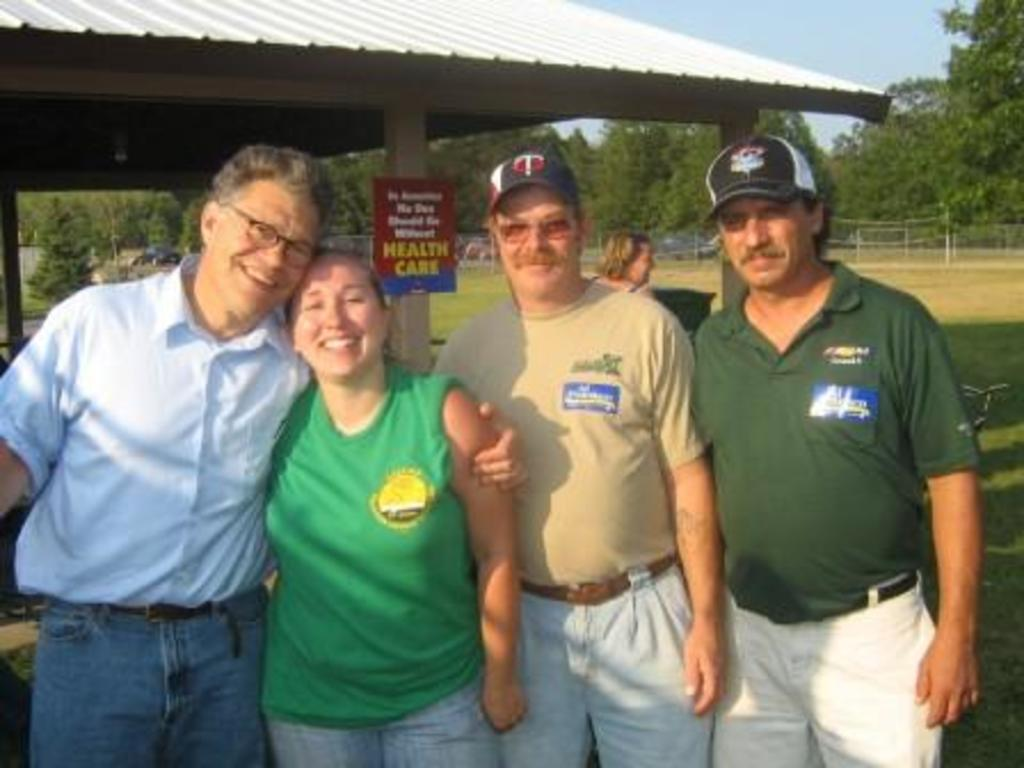Tree: (829, 0, 1021, 249), (585, 102, 854, 240), (427, 111, 601, 249), (16, 189, 205, 258), (22, 198, 98, 297), (324, 153, 404, 244)
